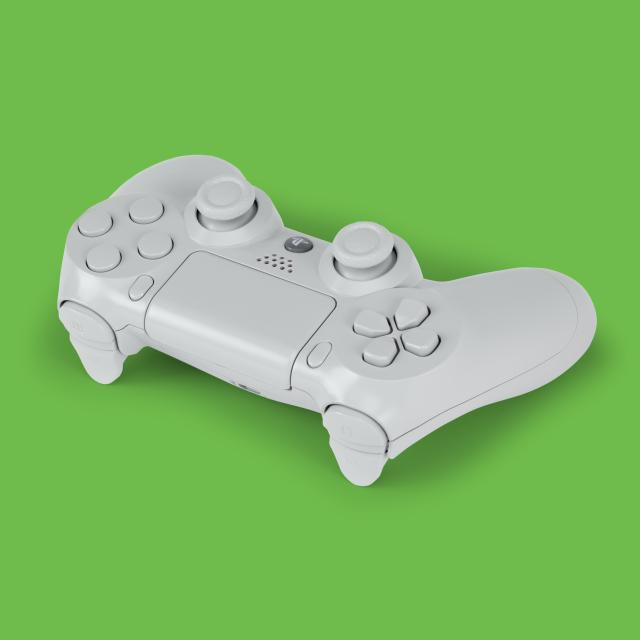Plastic: (8, 102, 630, 484)
